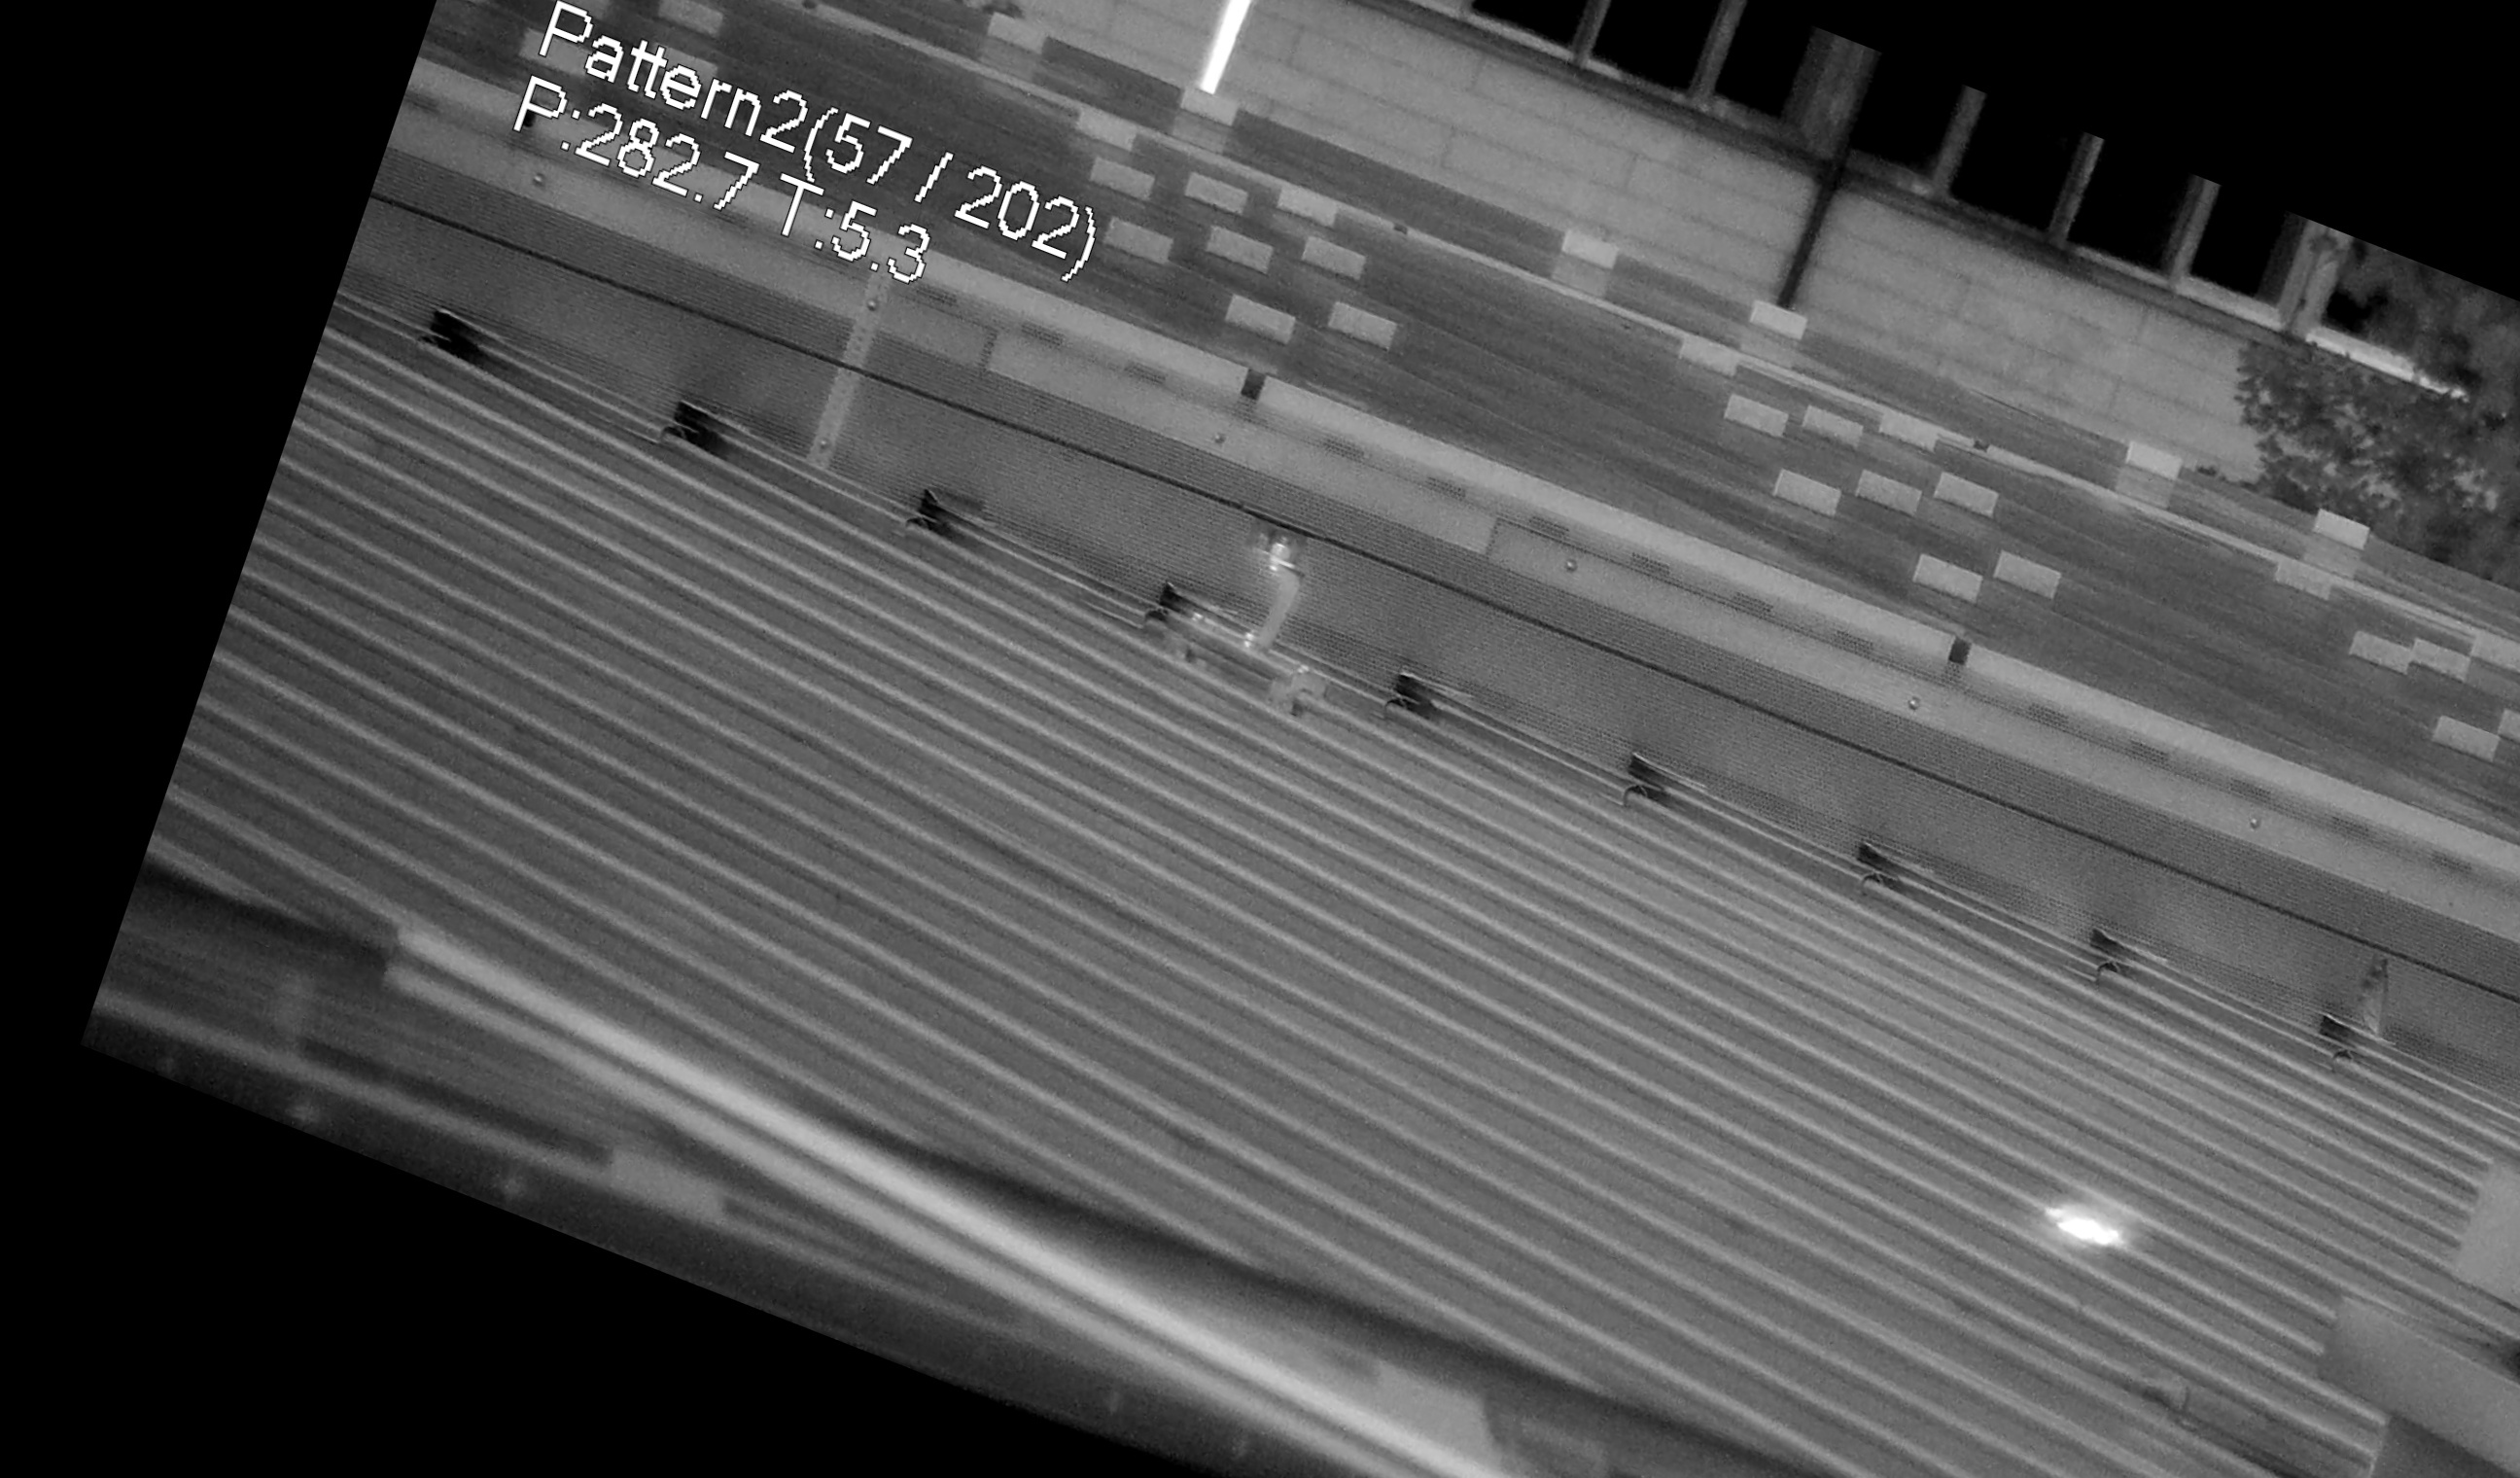Other: (2311, 940, 2425, 1079)
